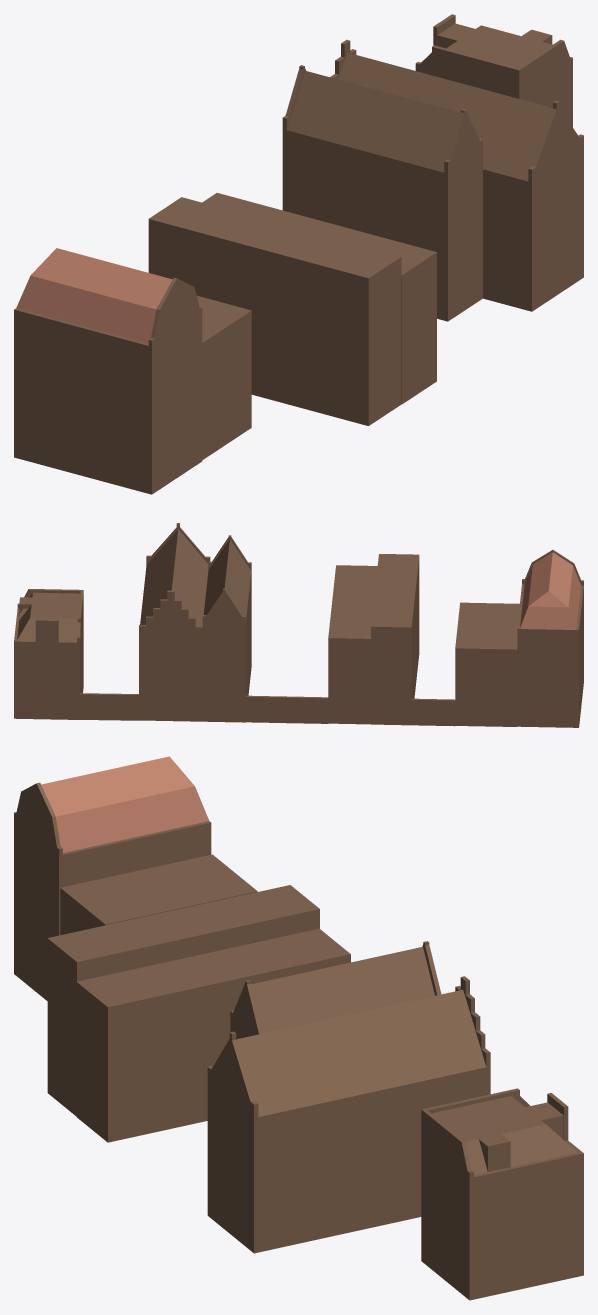
Rendered from Grote_Kattenburgerstraat_16-38.fbx.
3 renders of one model, top to bottom at view 1: azimuth 30°, elevation 25°; view 2: azimuth 150°, elevation 25°; view 3: azimuth 270°, elevation 25°, orthographic. The views are drawn at different scales.
Visible parts, largest first — view 1: Grote_Kattenburgerstraat_22, Grote_Kattenburgerstraat_16_walls, Grote_Kattenburgerstraat_28_walls, Grote_Kattenburgerstraat_30_walls, Grote_Kattenburgerstraat_16_roof, Grote_Kattenburgerstraat_28_roof, Grote_Kattenburgerstraat_30_roof, Grote_Kattenburgerstraat_24, Grote_Kattenburgerstraat_18_walls, Grote_Kattenburgerstraat_40_walls, Grote_Kattenburgerstraat_40_roof; view 2: Grote_Kattenburgerstraat_22, Grote_Kattenburgerstraat_18_walls, Grote_Kattenburgerstraat_30_walls, Grote_Kattenburgerstraat_16_walls, Grote_Kattenburgerstraat_24, Grote_Kattenburgerstraat_40_walls, Grote_Kattenburgerstraat_28_walls, Grote_Kattenburgerstraat_30_roof, Grote_Kattenburgerstraat_16_roof, Grote_Kattenburgerstraat_40_roof, Grote_Kattenburgerstraat_26-28, Grote_Kattenburgerstraat_28_roof (+2 smaller); view 3: Grote_Kattenburgerstraat_30_walls, Grote_Kattenburgerstraat_24, Grote_Kattenburgerstraat_40_walls, Grote_Kattenburgerstraat_30_roof, Grote_Kattenburgerstraat_22, Grote_Kattenburgerstraat_16_roof, Grote_Kattenburgerstraat_16_walls, Grote_Kattenburgerstraat_28_roof, Grote_Kattenburgerstraat_18_walls, Grote_Kattenburgerstraat_40_roof, Grote_Kattenburgerstraat_28_walls.
Part boxes in pixels (x1,y1,x2,y2): Grote_Kattenburgerstraat_22: (148,197,401,425); Grote_Kattenburgerstraat_16_walls: (14,308,202,494); Grote_Kattenburgerstraat_28_walls: (282,65,482,321); Grote_Kattenburgerstraat_30_walls: (330,39,583,311); Grote_Kattenburgerstraat_16_roof: (16,248,202,346); Grote_Kattenburgerstraat_28_roof: (288,70,460,172); Grote_Kattenburgerstraat_30_roof: (338,52,552,181); Grote_Kattenburgerstraat_24: (202,193,436,404); Grote_Kattenburgerstraat_18_walls: (197,295,251,459); Grote_Kattenburgerstraat_40_walls: (415,14,572,127); Grote_Kattenburgerstraat_40_roof: (437,23,552,67); Grote_Kattenburgerstraat_22: (371,554,419,725); Grote_Kattenburgerstraat_18_walls: (455,602,519,726); Grote_Kattenburgerstraat_30_walls: (139,523,210,721); Grote_Kattenburgerstraat_16_walls: (517,584,583,727); Grote_Kattenburgerstraat_24: (328,565,377,724); Grote_Kattenburgerstraat_40_walls: (14,589,83,719); Grote_Kattenburgerstraat_28_walls: (202,535,251,722); Grote_Kattenburgerstraat_30_roof: (140,529,208,626); Grote_Kattenburgerstraat_16_roof: (520,550,583,629); Grote_Kattenburgerstraat_40_roof: (17,592,80,641); Grote_Kattenburgerstraat_26-28: (245,695,328,723); Grote_Kattenburgerstraat_28_roof: (203,539,251,622); Grote_Kattenburgerstraat_30_walls: (207,976,490,1253); Grote_Kattenburgerstraat_24: (76,928,350,1142); Grote_Kattenburgerstraat_40_walls: (421,1088,583,1300); Grote_Kattenburgerstraat_30_roof: (236,990,486,1116); Grote_Kattenburgerstraat_22: (47,885,319,1116); Grote_Kattenburgerstraat_16_roof: (14,756,209,855); Grote_Kattenburgerstraat_16_walls: (14,819,211,1000); Grote_Kattenburgerstraat_28_roof: (251,946,434,1033); Grote_Kattenburgerstraat_18_walls: (60,854,257,935); Grote_Kattenburgerstraat_40_roof: (432,1096,577,1174); Grote_Kattenburgerstraat_28_walls: (230,941,441,1039).
Bounding box in the file's own units: 54.29 × 14.72 × 36.34.
